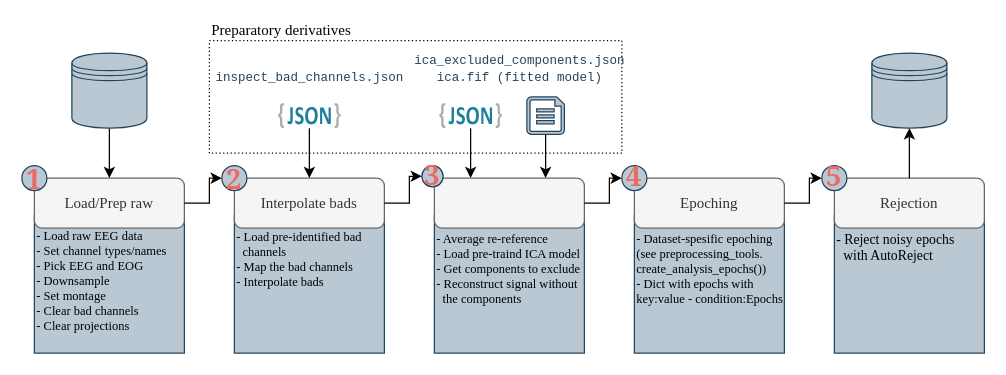
This 1006x375 diagram has some shape labels left out. The centre of each missing label's shape, as x and y in pixels:
"analysis epochs" belongs at point (909, 90).
"ICA Correction" belongs at point (508, 202).
"raw EEG data" belongs at point (109, 90).
